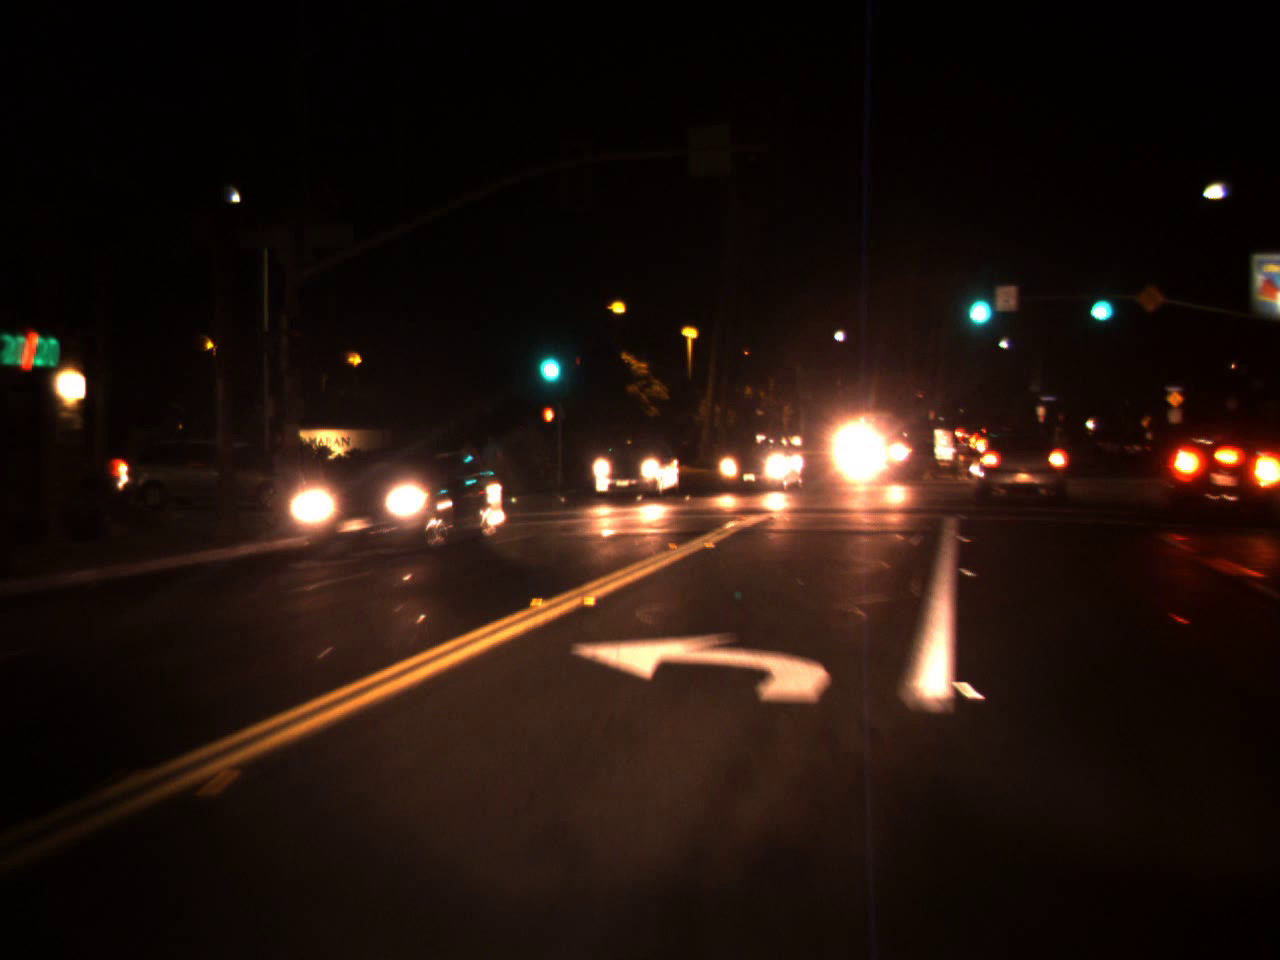go: (959, 270, 996, 333), (531, 327, 565, 390), (1082, 275, 1116, 329)
